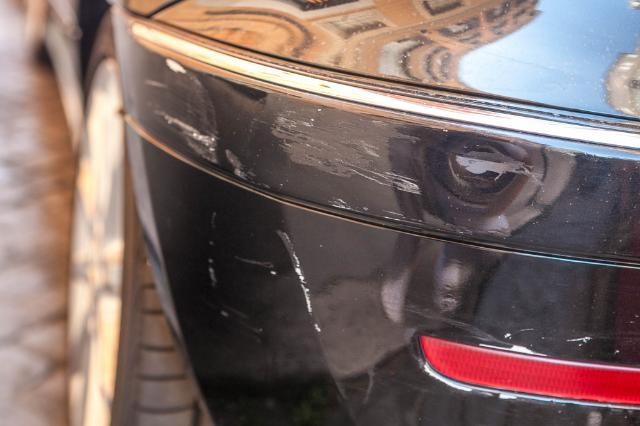scratch: (144, 58, 542, 239), (276, 231, 322, 333)
